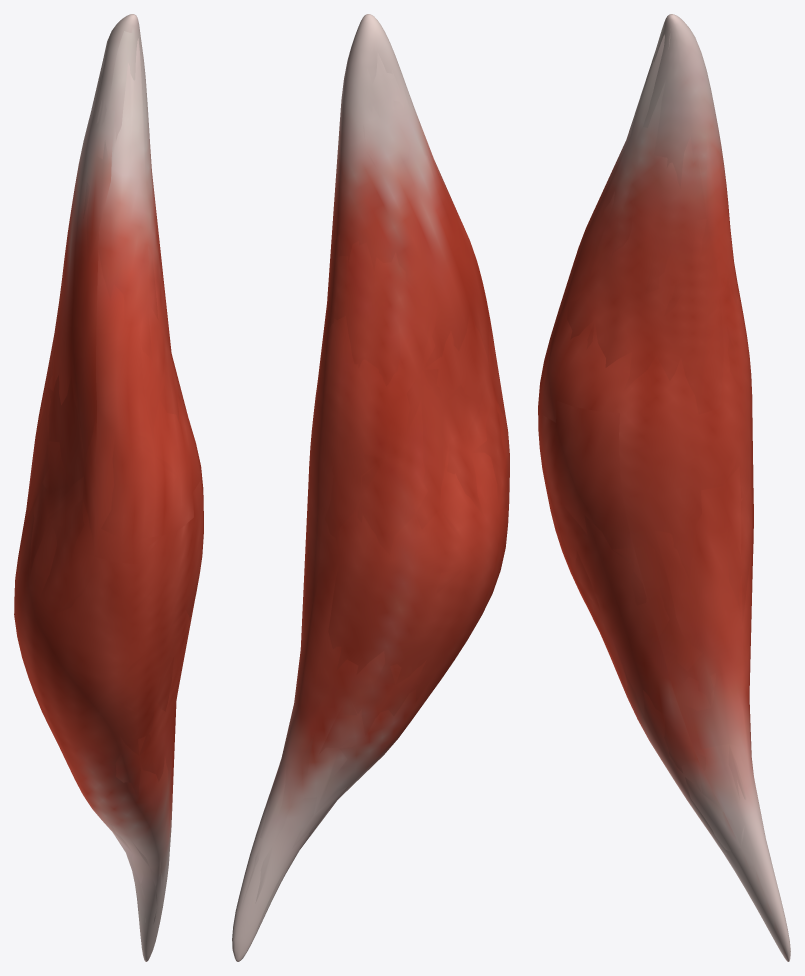
File: R Brachialis.fbx
3 views of the same model, side by side, from view 1: azimuth 30°, elevation 25°; view 2: azimuth 150°, elevation 25°; view 3: azimuth 270°, elevation 25° (orthographic). The views are drawn at different scales.
Parts seen in each view (by area): view 1: R Brachialis, R Brachialis low; view 2: R Brachialis, R Brachialis low; view 3: R Brachialis low, R Brachialis.
Boxes of the visible parts, <box> form: R Brachialis: <box>14,14,203,961</box>; R Brachialis low: <box>14,22,195,934</box>; R Brachialis: <box>232,14,509,961</box>; R Brachialis low: <box>242,23,509,930</box>; R Brachialis low: <box>538,28,771,868</box>; R Brachialis: <box>538,14,790,961</box>.
Size of the model in its own units: 8.49 by 39.74 by 9.97.
